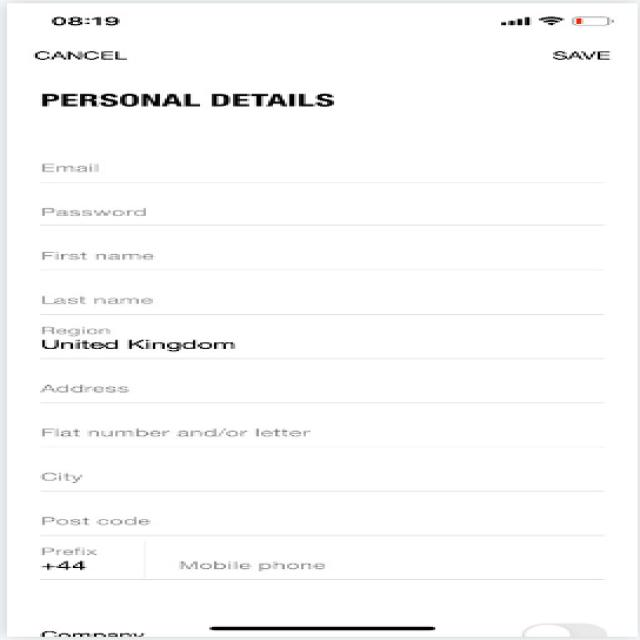input: (21, 140, 621, 190), (27, 366, 623, 411), (21, 322, 628, 364), (21, 413, 628, 455), (18, 278, 623, 320), (21, 235, 619, 277), (24, 458, 633, 499), (24, 502, 628, 542), (21, 546, 637, 584), (21, 194, 616, 232)
text: (30, 79, 350, 119), (24, 38, 169, 66), (539, 42, 640, 66)
